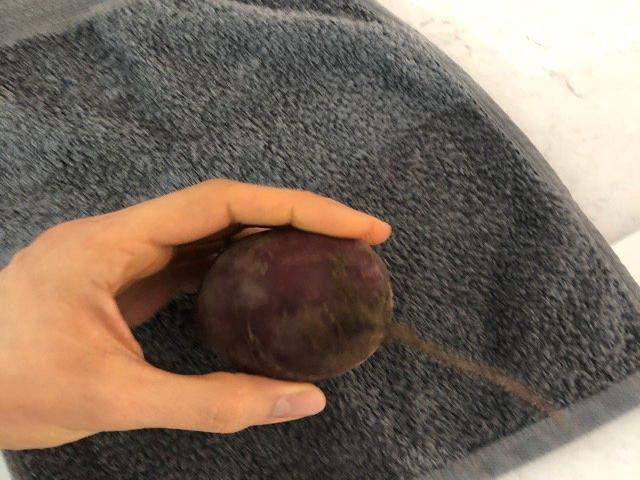beet: (195, 228, 391, 382)
